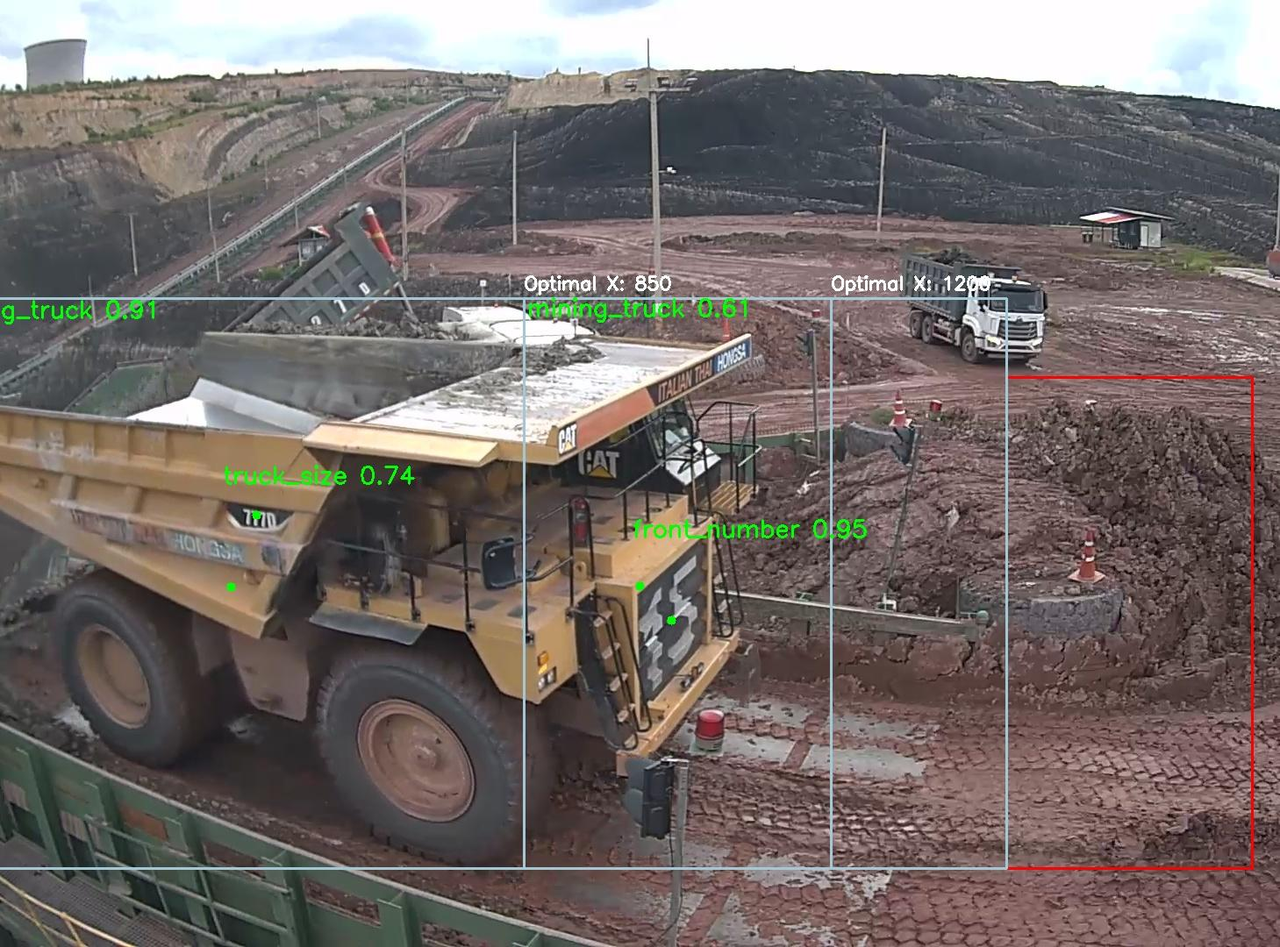company: (51, 505, 244, 577)
empty_load: (164, 308, 465, 480)
mining_truck: (8, 299, 776, 859)
truck_size: (219, 494, 300, 532)
